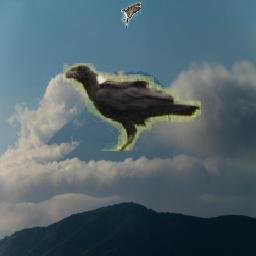Crow: (63, 63, 201, 151)
Swallow: (121, 2, 141, 28)
